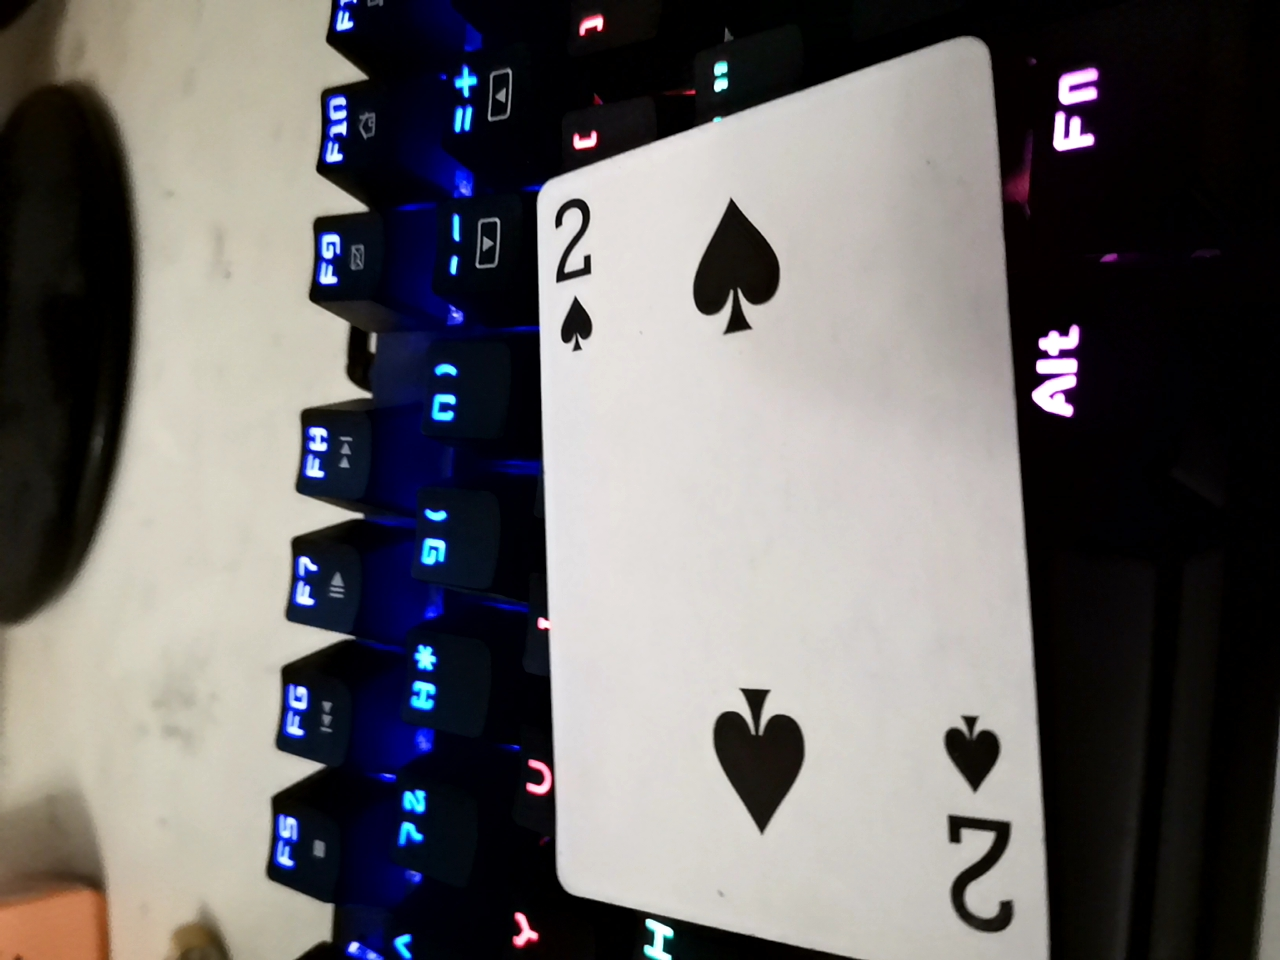ht 2: (543, 61, 1091, 942)
